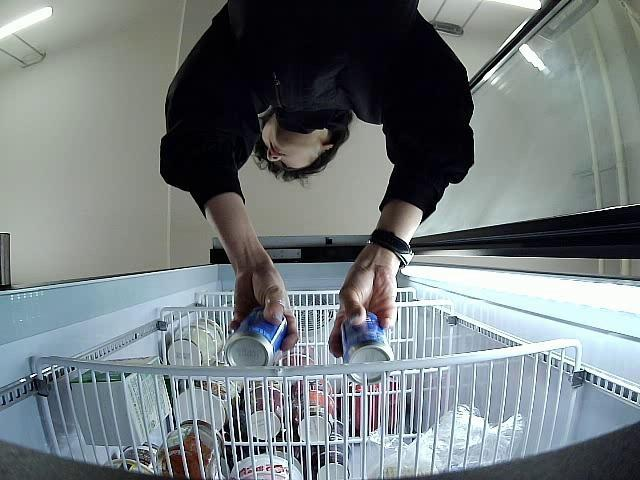15_letsbe: (222, 304, 289, 368), (339, 310, 395, 381)
